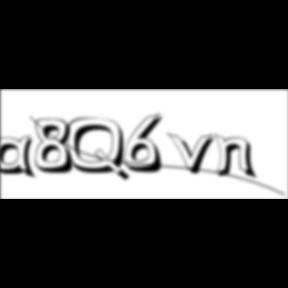6: (124, 112, 170, 176)
8: (36, 117, 80, 176)
Q: (67, 117, 133, 184)
a: (0, 135, 40, 182)
n: (214, 132, 262, 181)
v: (167, 131, 221, 177)
